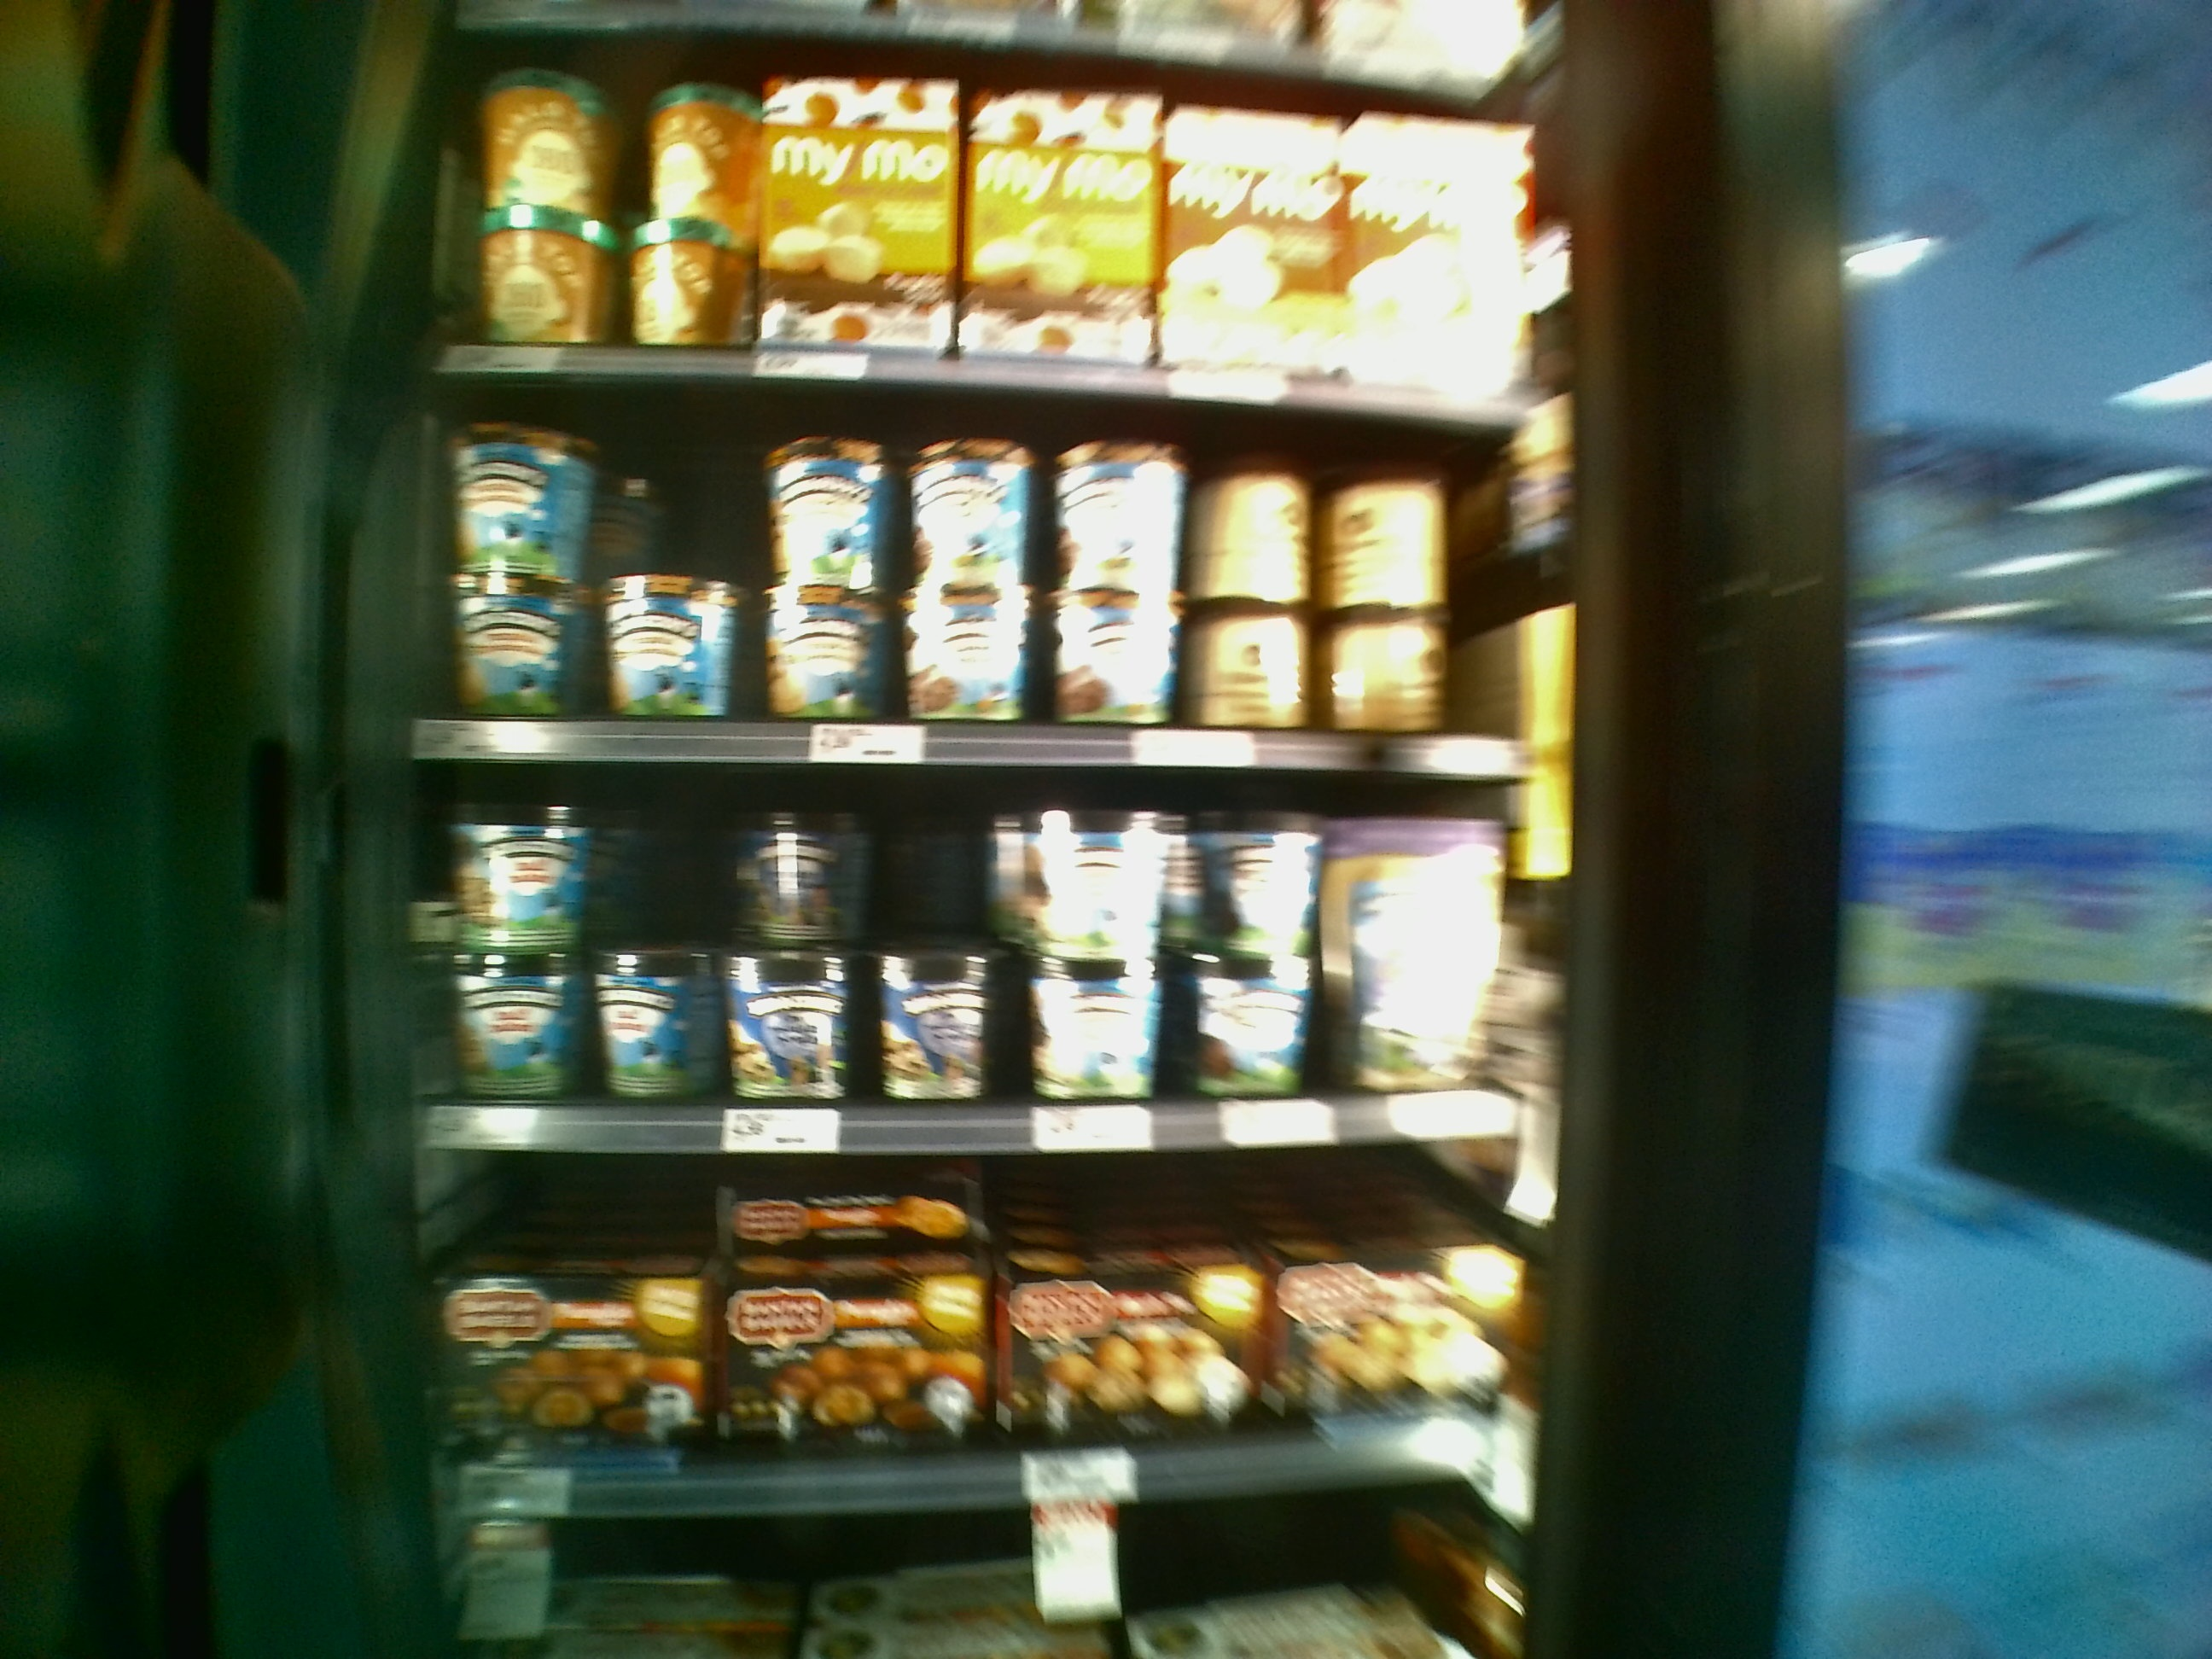shelf: (409, 352, 1571, 786), (364, 746, 1566, 1140), (388, 1110, 1555, 1500)
